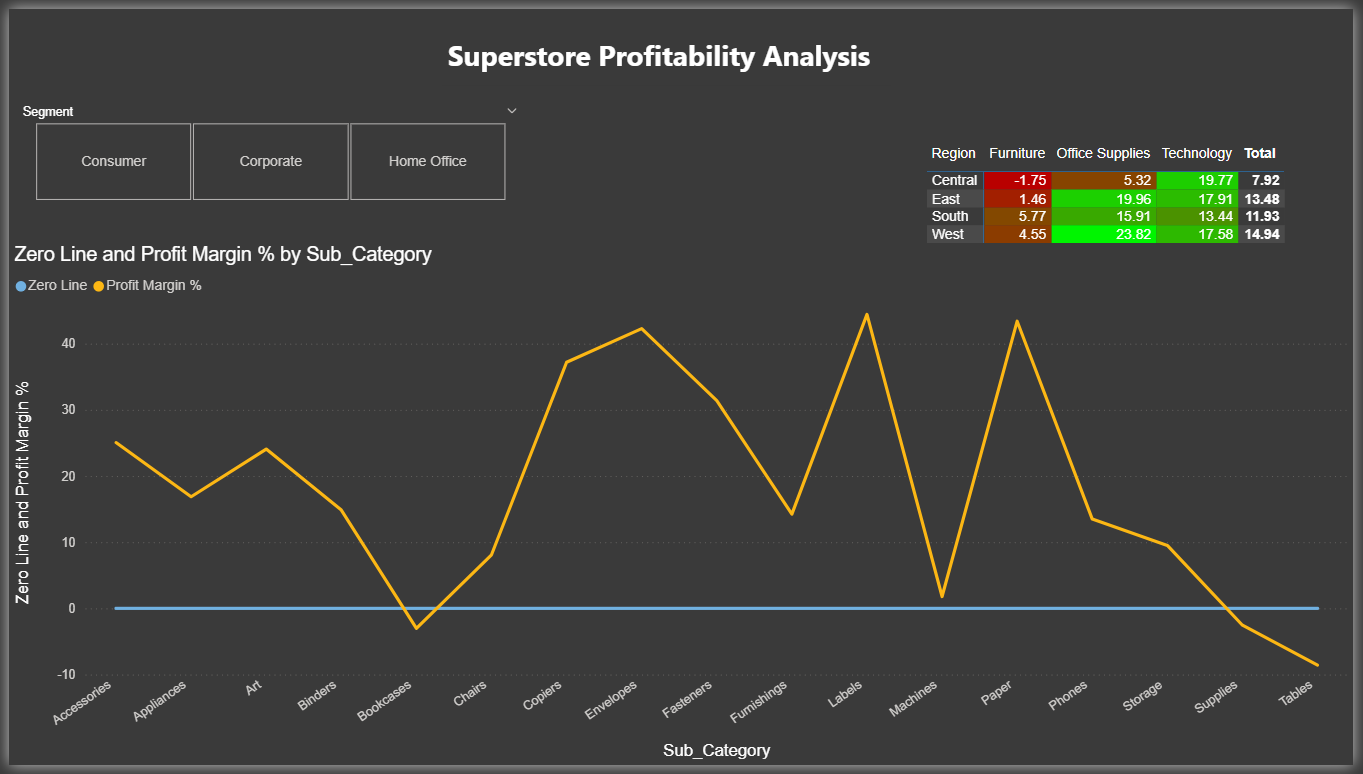

The page's visual inventory and layout, read from the dashboard file:
{"tool":"powerbi","page":{"name":"Profitability","canvas":[1280,720],"ordinal":1},"visuals":[{"type":"pivotTable","fields":{"Rows":["SampleSuperstore.Region"],"Columns":["SampleSuperstore.Category"],"Values":["SampleSuperstore.Profit Margin %"]},"box":[869.2,124.2,410.3,130.2],"z":0},{"type":"lineChart","fields":{"Category":["SampleSuperstore.Sub_Category"],"Y":["SampleSuperstore.Zero Line","SampleSuperstore.Profit Margin %"]},"box":[0,222.6,1279.5,496.7],"z":1000},{"type":"slicer","fields":{"Values":["SampleSuperstore.Segment"]},"box":[0,86.3,496.7,103],"z":2000},{"type":"textbox","box":[413.4,19.7,427,53],"z":3000}]}

Visuals, with their boxes in screenshot pixels (x1, y1, x2, y2), scaled from the page's 1280x720 canvas onto the 1363x774 screenshot:
pivotTable - SampleSuperstore.Region x SampleSuperstore.Category: x1=926 y1=134 x2=1362 y2=273
lineChart - SampleSuperstore.Sub_Category x SampleSuperstore.Zero Line: x1=0 y1=239 x2=1362 y2=773
slicer - SampleSuperstore.Segment: x1=0 y1=93 x2=529 y2=203
textbox: x1=440 y1=21 x2=895 y2=78
